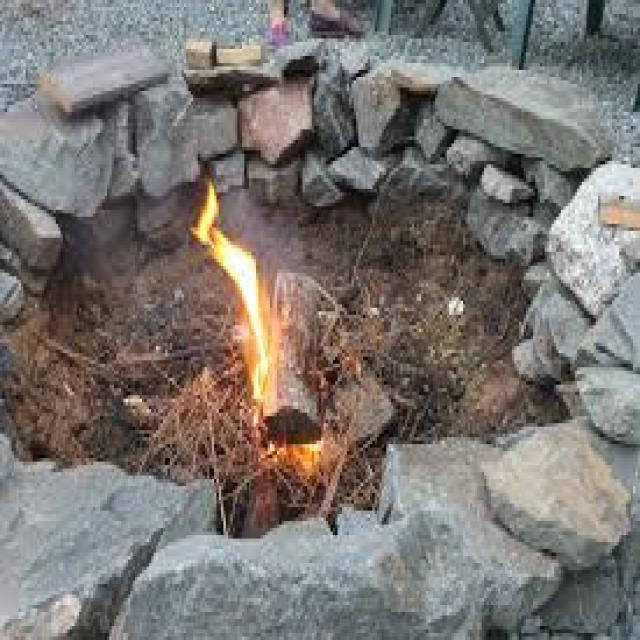fire: (189, 179, 268, 401)
